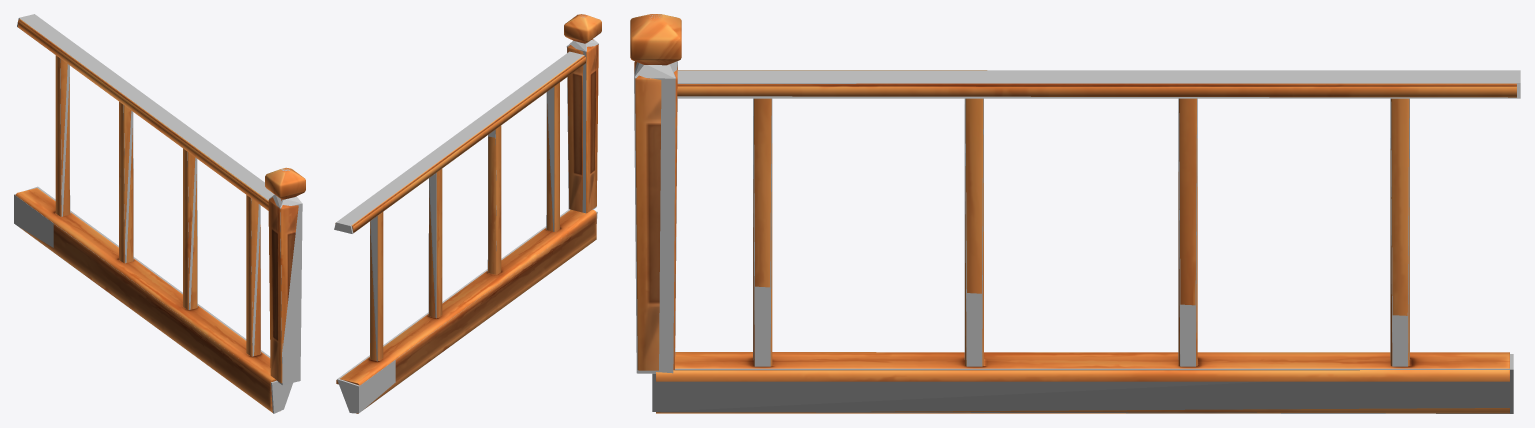
Rendered from SM_PropStairs01PTypeA2.fbx.
3 views of the same model, side by side, from view 1: azimuth 30°, elevation 25°; view 2: azimuth 150°, elevation 25°; view 3: azimuth 270°, elevation 25° (orthographic). The views are drawn at different scales.
Parts seen in each view (by area): view 1: SM_PropStairs01PTypeA2, SM_PropStairs01PTypeA2_ConvexHulls; view 2: SM_PropStairs01PTypeA2, SM_PropStairs01PTypeA2_ConvexHulls; view 3: SM_PropStairs01PTypeA2, SM_PropStairs01PTypeA2_ConvexHulls.
Part boxes in pixels (left/top/right/bottom): SM_PropStairs01PTypeA2: left=15, top=19, right=305, bottom=412; SM_PropStairs01PTypeA2_ConvexHulls: left=14, top=14, right=302, bottom=413; SM_PropStairs01PTypeA2: left=335, top=14, right=601, bottom=413; SM_PropStairs01PTypeA2_ConvexHulls: left=334, top=14, right=598, bottom=413; SM_PropStairs01PTypeA2: left=630, top=14, right=1516, bottom=413; SM_PropStairs01PTypeA2_ConvexHulls: left=634, top=14, right=1520, bottom=413.
Bounding box in the file's own units: 14.29 × 235 × 117.
2 materials, 1 textured.
